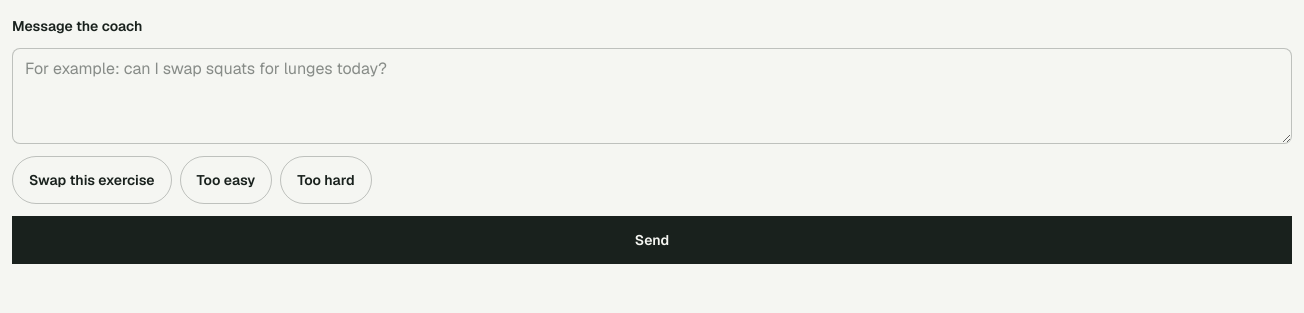
Test: streaming coach form › shows a tier denial without rendering a successful exchange
In the text box labelled "Message the coach": (652, 96) [12,48,1292,144], type "How long should I rest?"
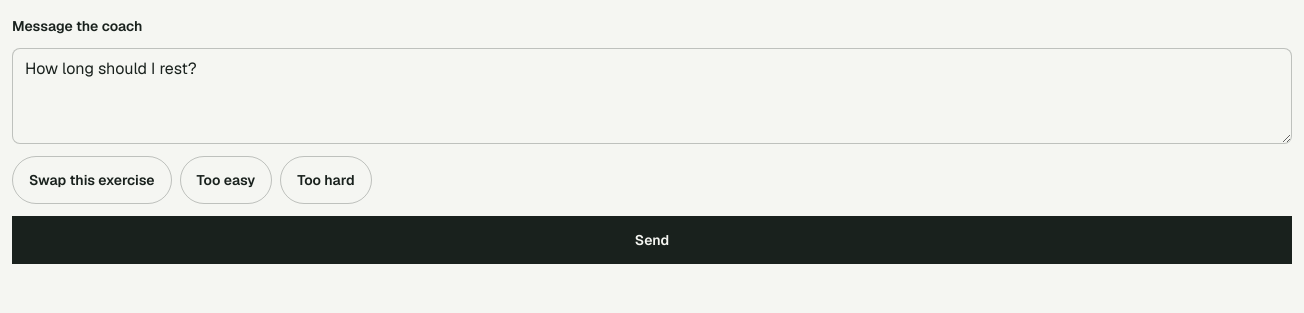
Submit the form "Send"
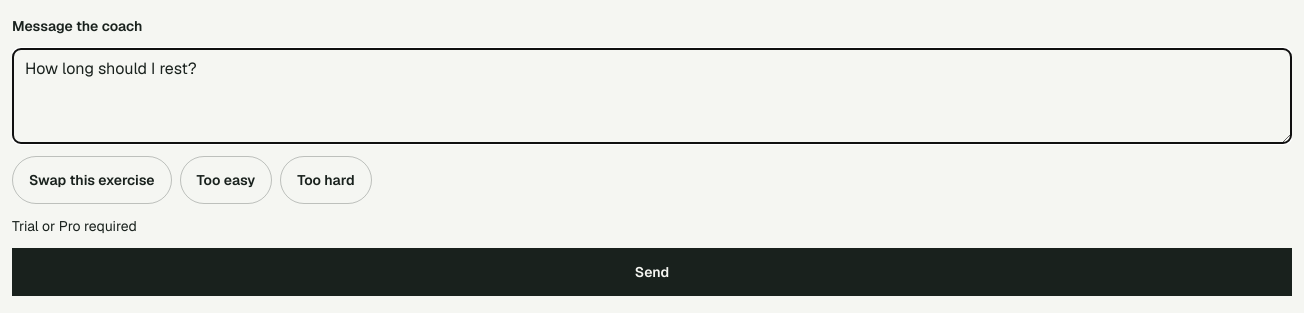
Check: the message reads "Trial or Pro required", box [12,217,137,235]
